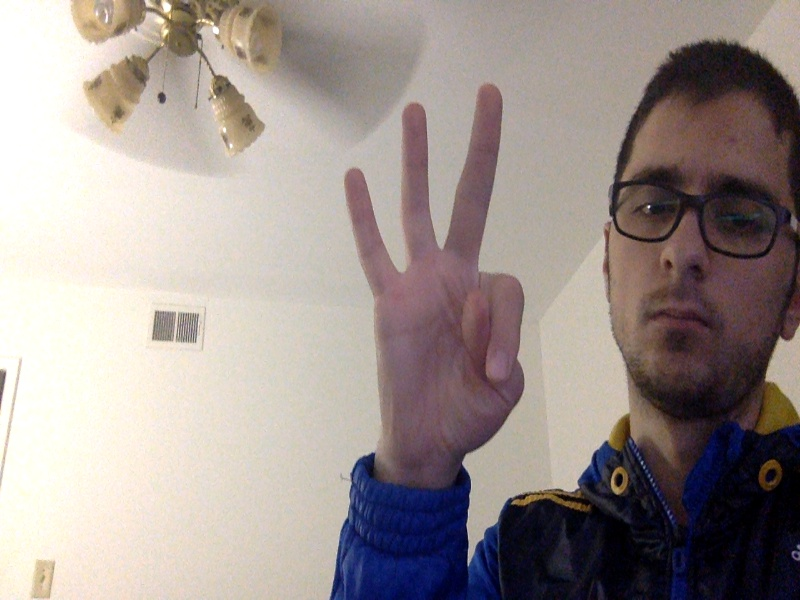3-hand: (344, 82, 524, 479)
